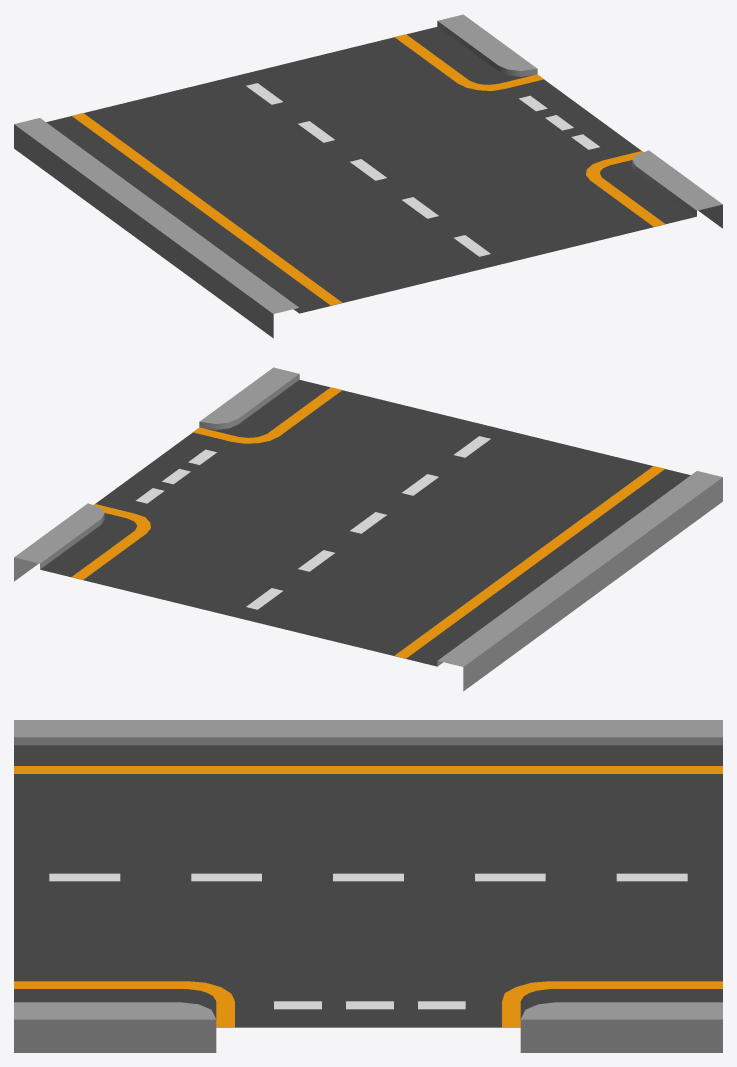
File: Road_A_5.glb
3 renders of one model, top to bottom at view 1: azimuth 30°, elevation 25°; view 2: azimuth 150°, elevation 25°; view 3: azimuth 270°, elevation 25°, orthographic. The views are drawn at different scales.
Visible parts, largest first — view 1: Road_A_5; view 2: Road_A_5; view 3: Road_A_5.
Boxes of the visible parts, box(x1,y1,x2,y2) form: Road_A_5: box(14, 14, 722, 338); Road_A_5: box(14, 367, 722, 691); Road_A_5: box(14, 720, 722, 1052).
Bounding box in the file's own units: 8 × 0.4148 × 8.
Materials: 1 (1 with a texture image).
